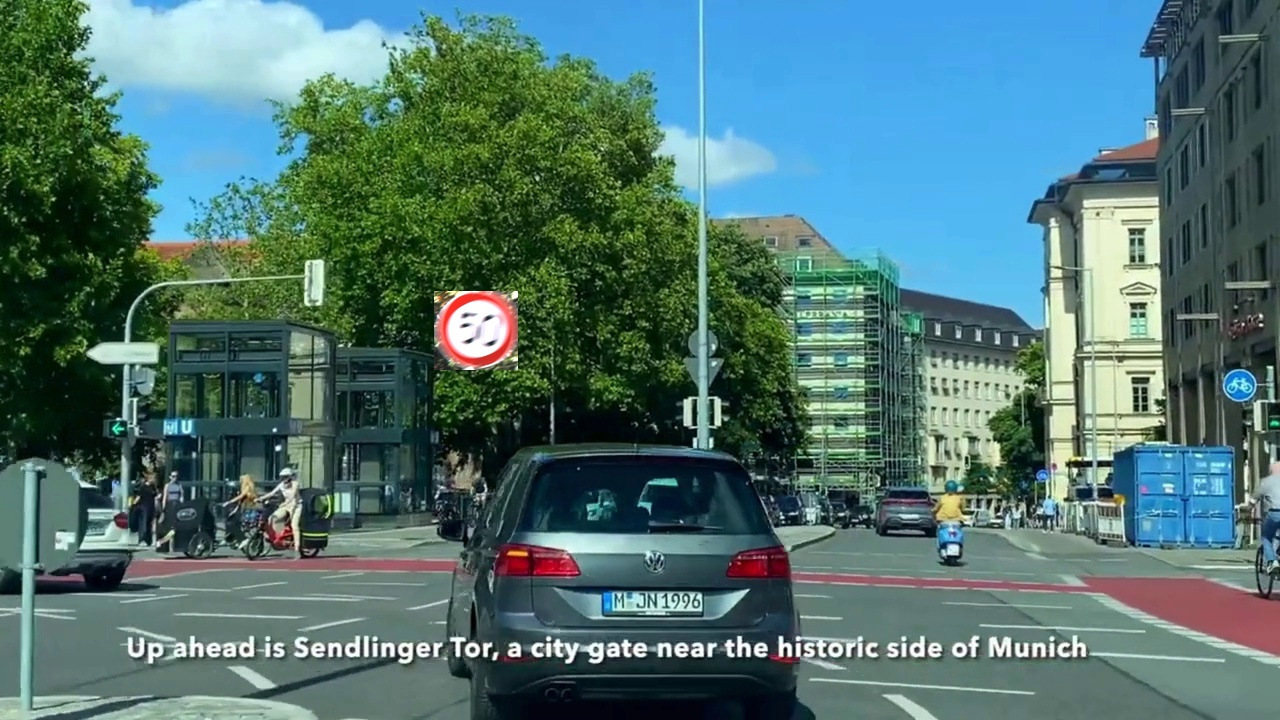Speed 50: (434, 291, 518, 370)
